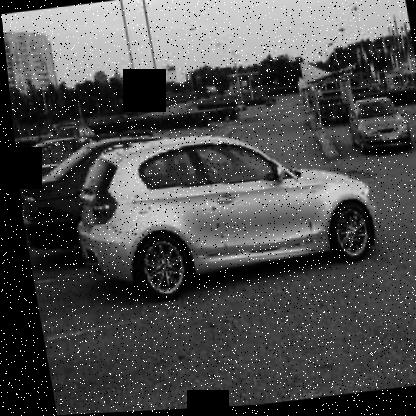not_emergency: (61, 119, 387, 324), (340, 92, 415, 163)
